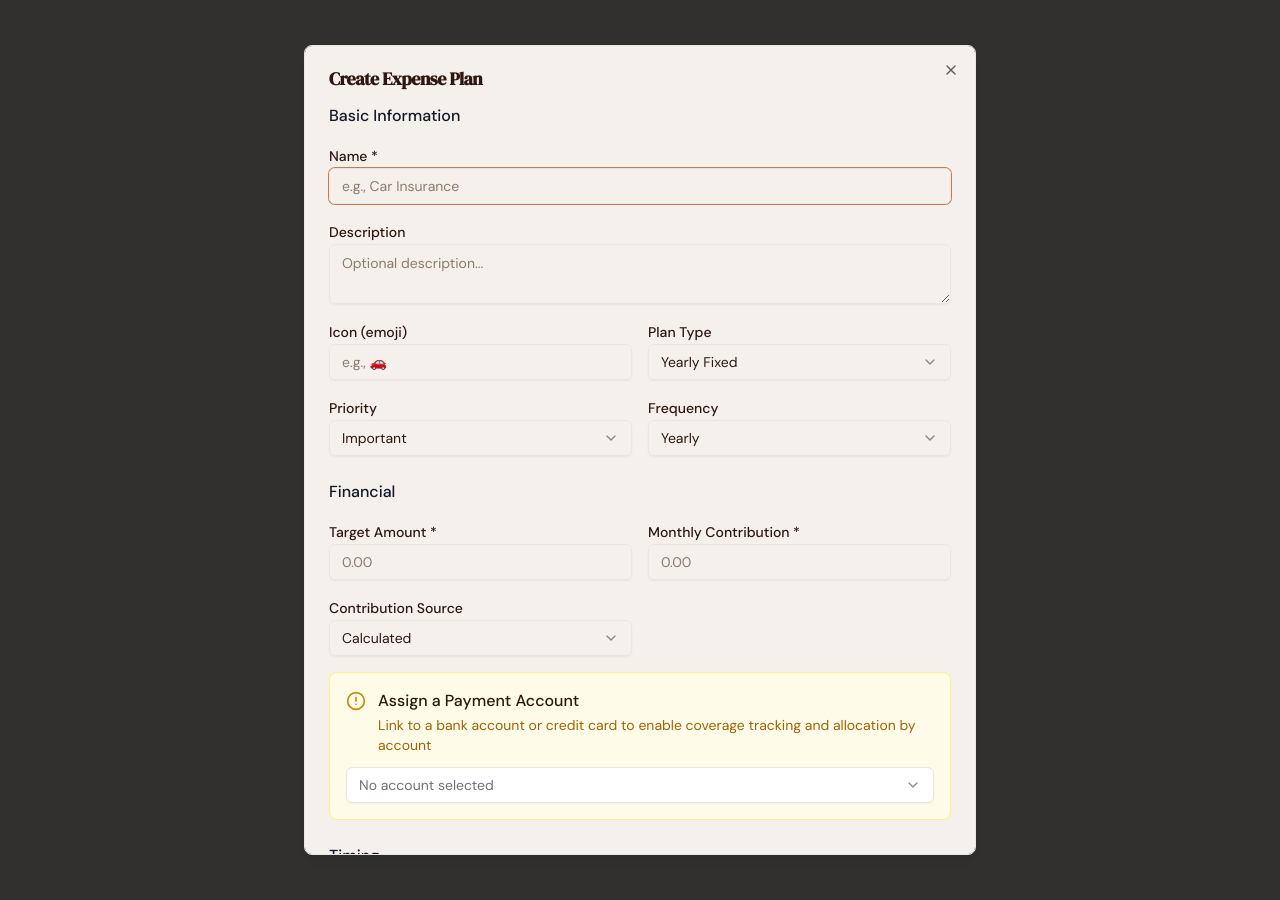
Test: ExpensePlanFormDialog › form validation › should show error when name is empty
// Clear the name field and submit
Step 1. Clear the field labelled "Name *" → (640, 186), box [329, 168, 951, 204]
(page scrolled)
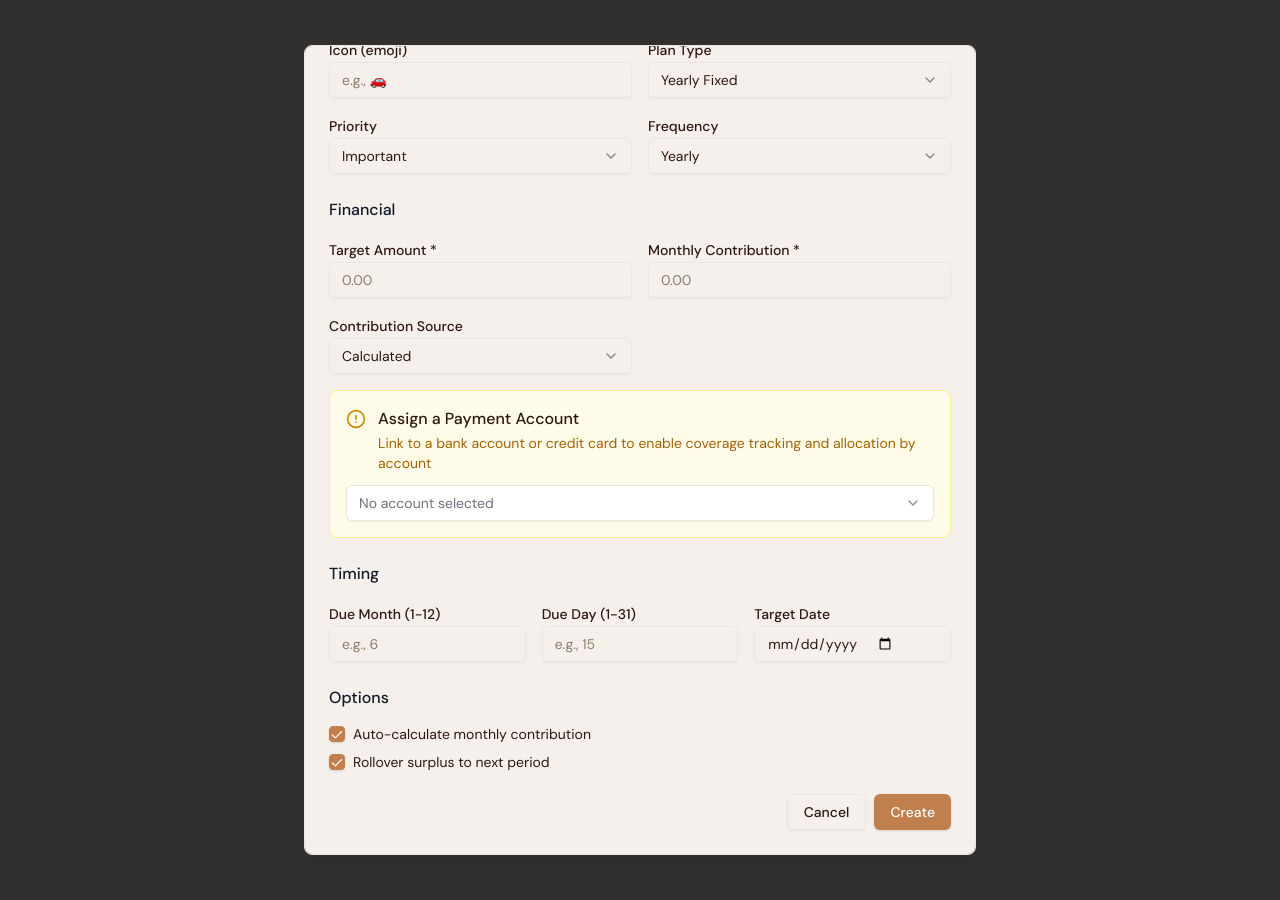
Step 2. Click the button "Create" → click(913, 812), box [874, 794, 951, 830]
(page scrolled)
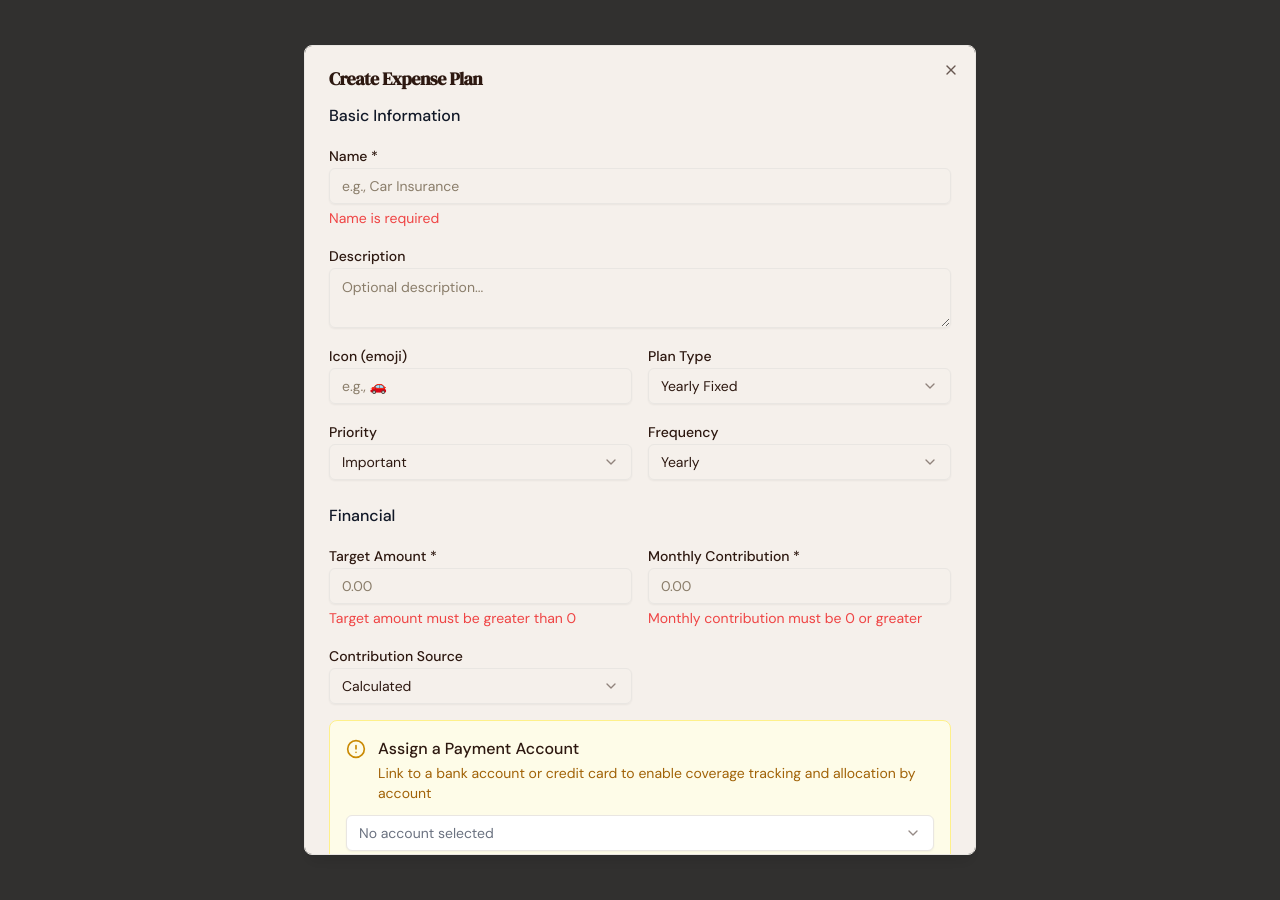
Now the text "Name is required" is shown, box [329, 209, 439, 227]
